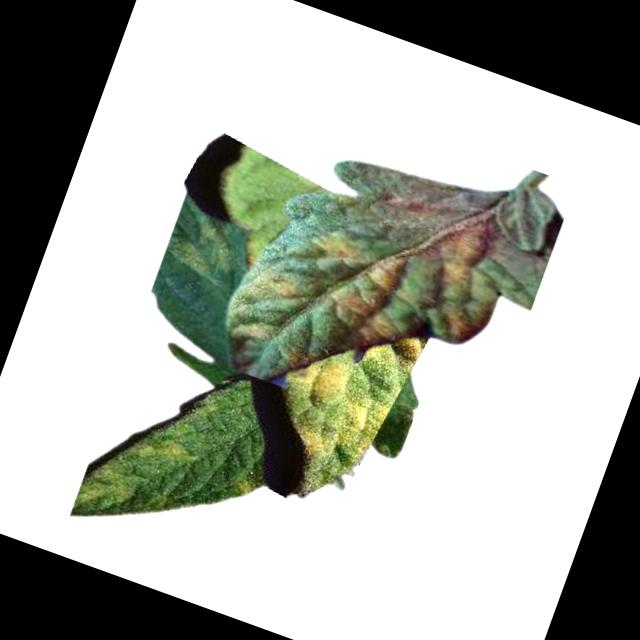Leaf_Mold: (269, 298, 428, 482), (332, 238, 415, 323), (433, 212, 499, 296), (74, 459, 138, 523), (129, 425, 200, 473), (308, 221, 372, 268), (251, 264, 314, 310), (235, 480, 255, 502)
